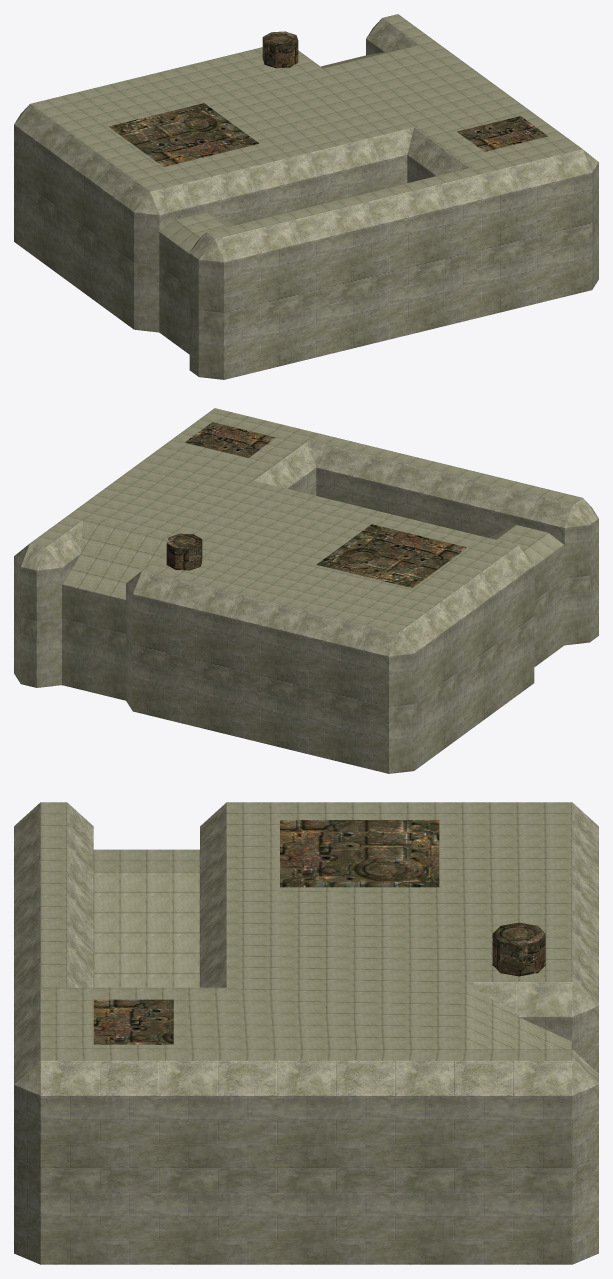
The model's file is poi_all_bunker_allum_mine_r0_mesh_l3.fbx.
The picture shows the model from 3 angles, top to bottom: view 1: azimuth 30°, elevation 25°; view 2: azimuth 150°, elevation 25°; view 3: azimuth 270°, elevation 25°; orthographic projection. The views are drawn at different scales.
Visible parts, largest first — view 1: mesh_node; view 2: mesh_node; view 3: mesh_node.
Boxes of the visible parts, box(x1,y1,x2,y2) form: mesh_node: box(14, 14, 598, 379); mesh_node: box(14, 408, 598, 773); mesh_node: box(14, 802, 598, 1264).
Bounding box in the file's own units: 25 × 11.3 × 22.
